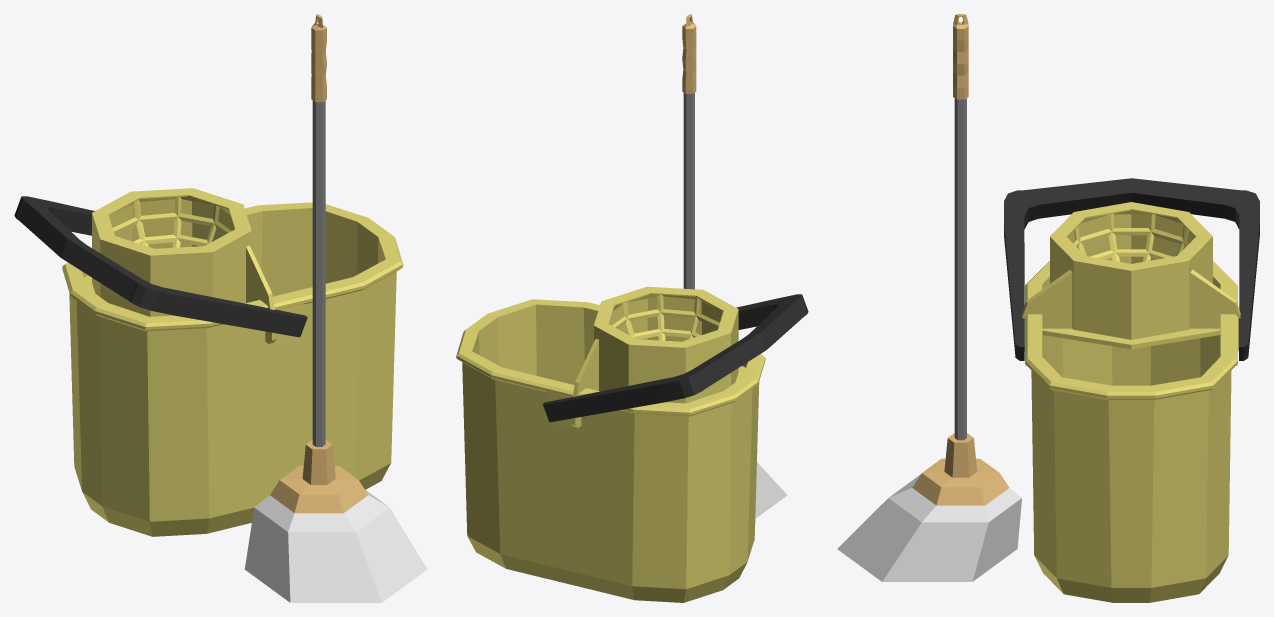
File: scene_J0GoU6RELS.glb
3 views of the same model, side by side, from view 1: azimuth 30°, elevation 25°; view 2: azimuth 150°, elevation 25°; view 3: azimuth 270°, elevation 25° (orthographic). The views are drawn at different scales.
Visible parts, largest first — view 1: Bucket_Cube, Broom_Cylinder.004; view 2: Bucket_Cube, Broom_Cylinder.004; view 3: Bucket_Cube, Broom_Cylinder.004.
Part boxes in pixels (x1,y1,x2,y2): Bucket_Cube: (14, 188, 403, 536); Broom_Cylinder.004: (244, 14, 427, 602); Bucket_Cube: (456, 286, 808, 602); Broom_Cylinder.004: (682, 14, 787, 518); Bucket_Cube: (1004, 178, 1259, 602); Broom_Cylinder.004: (837, 14, 1021, 581).
Bounding box in the file's own units: 1.58 × 2.53 × 1.81.
